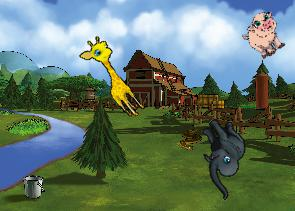elephant: (179, 111, 266, 200)
giraffe: (75, 32, 155, 121)
pig: (237, 7, 292, 63)
